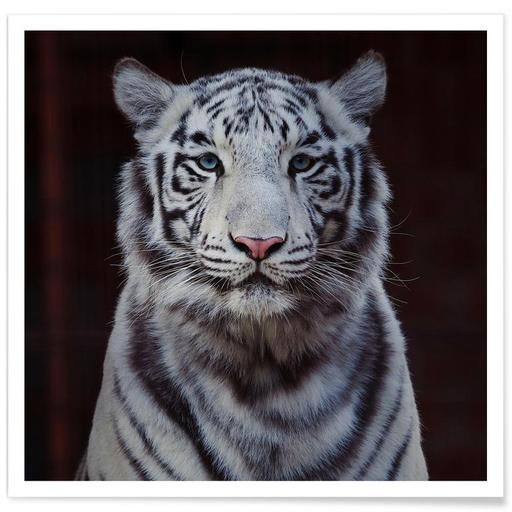Tiger: (70, 52, 445, 480)
